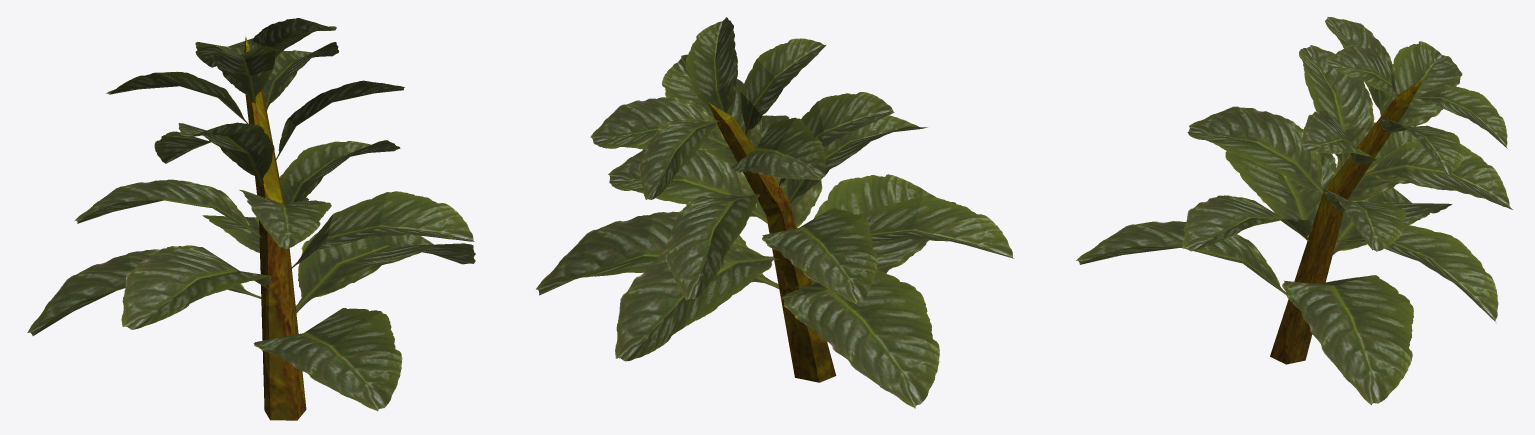
File: bigleafplant_01_tall_bend.fbx
3 renders of one model, left to right at view 1: azimuth 30°, elevation 25°; view 2: azimuth 150°, elevation 25°; view 3: azimuth 270°, elevation 25°, orthographic. The views are drawn at different scales.
Parts seen in each view (by area): view 1: bigleafb224; view 2: bigleafb224; view 3: bigleafb224.
Boxes of the visible parts, x1,y1,x2,y2 form: bigleafb224: (27,18,475,420); bigleafb224: (536,17,1014,408); bigleafb224: (1076,16,1512,405).
Size of the model in its own units: 231 by 184 by 228.
